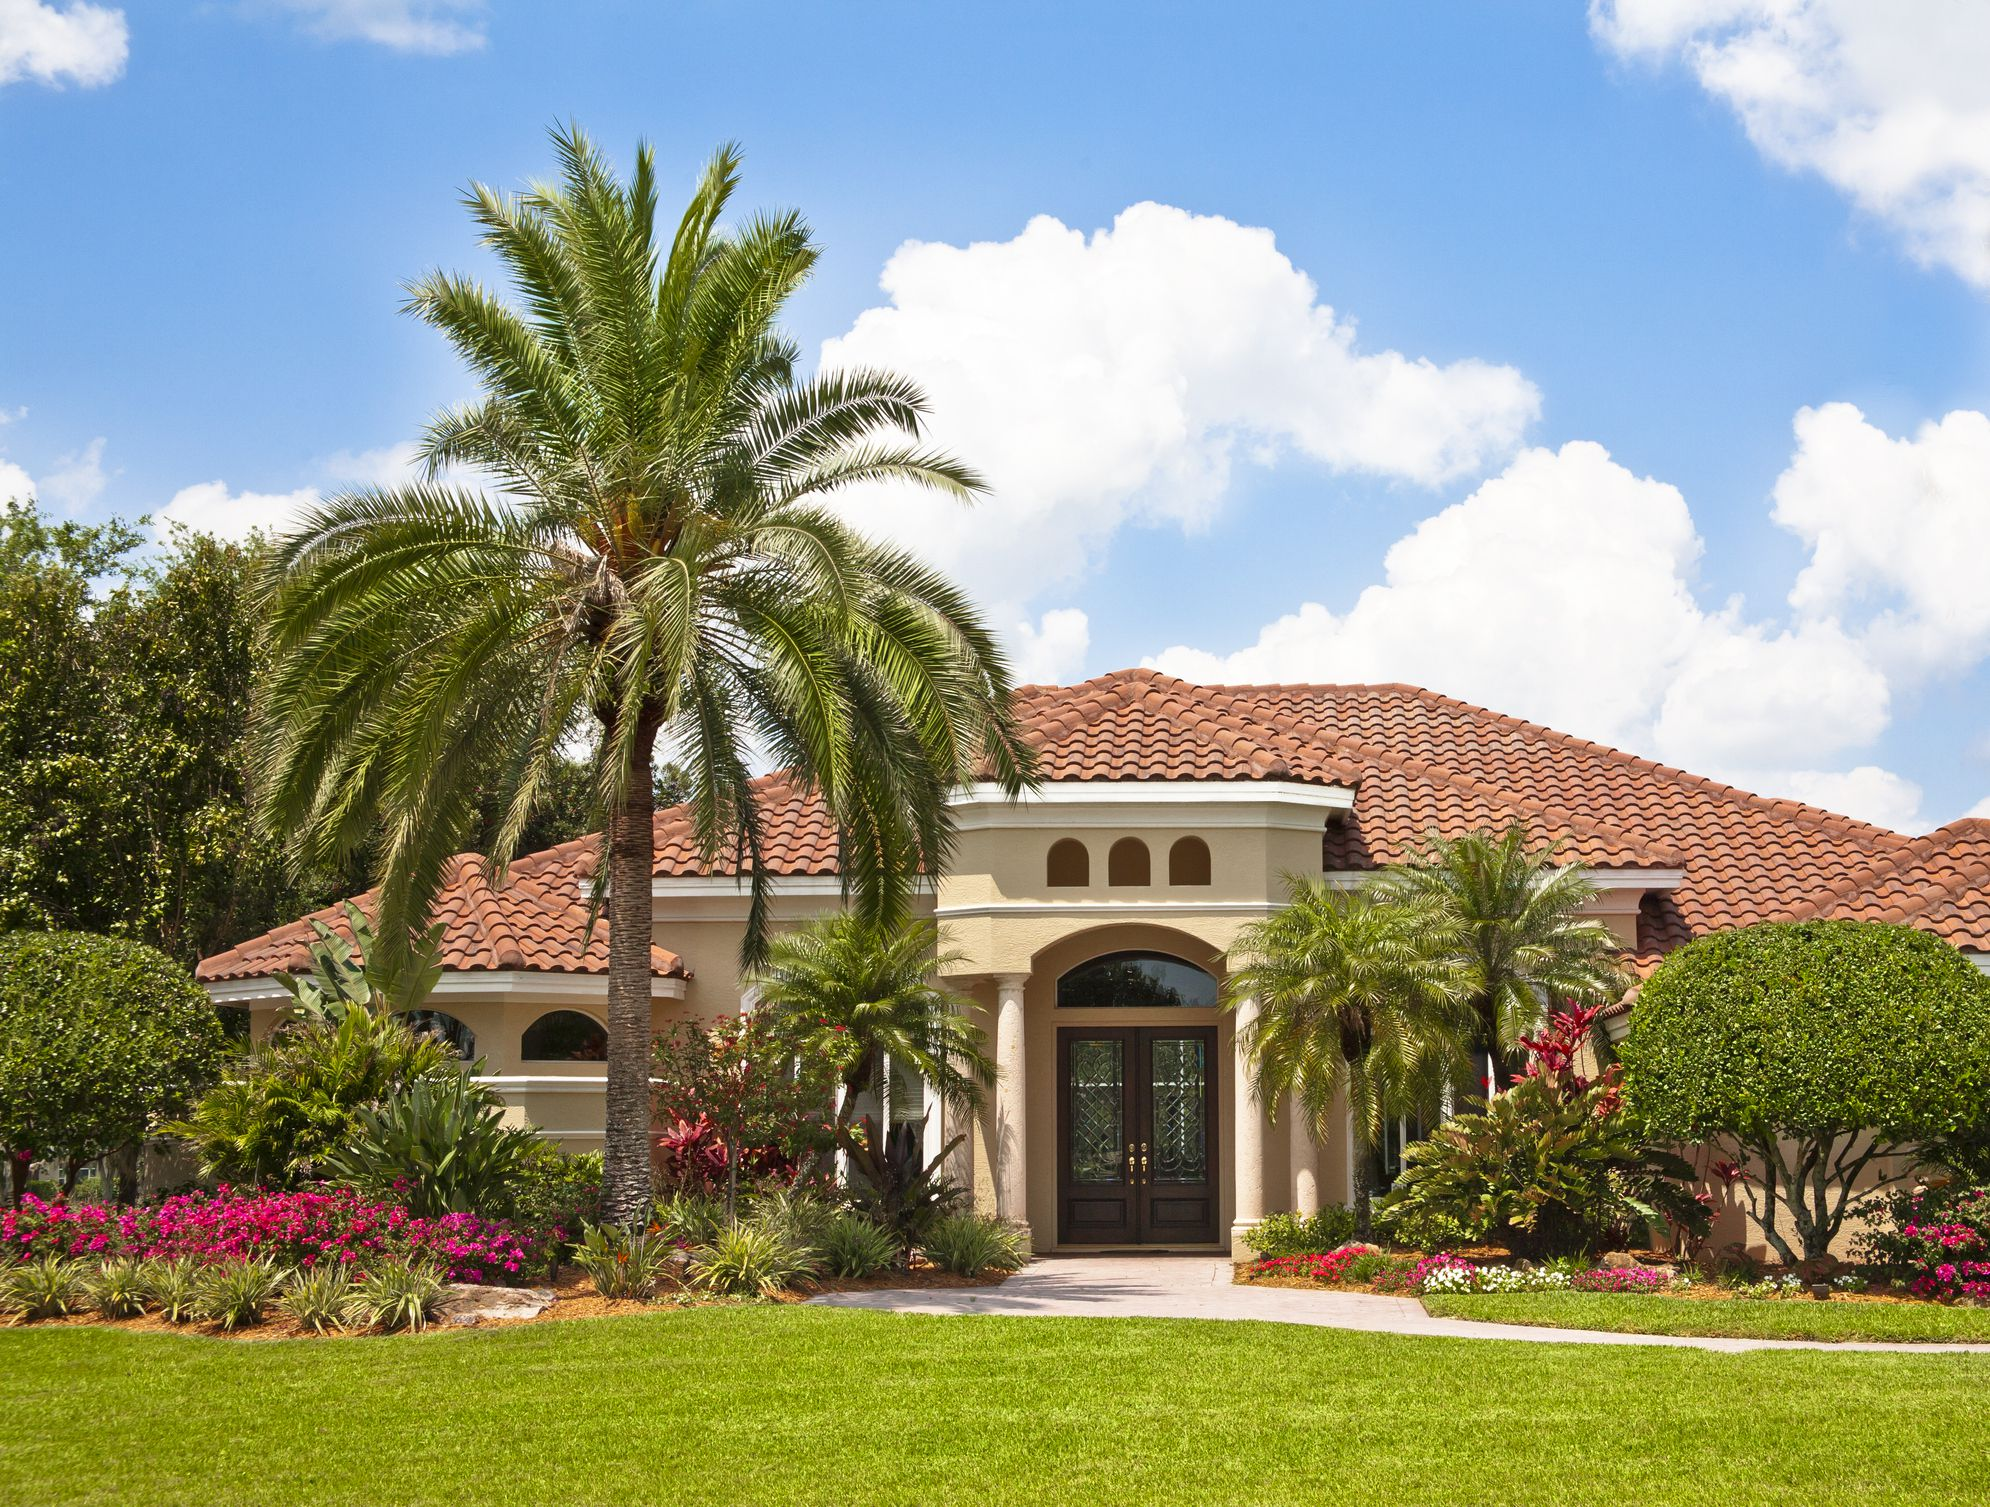bush: (2, 921, 606, 1317)
tree: (239, 139, 1015, 1225), (1620, 905, 1984, 1296), (1373, 820, 1621, 1213), (1214, 883, 1480, 1217), (742, 912, 955, 1246)
